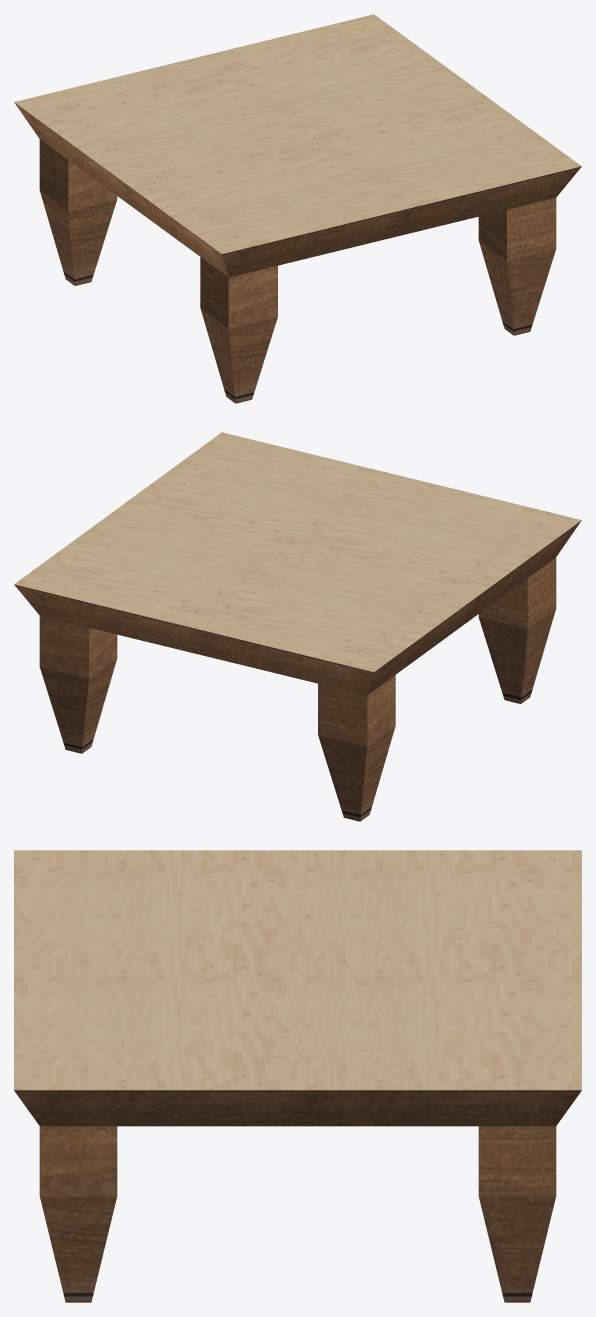
File: table.glb
3 views of the same model, one above another, from view 1: azimuth 30°, elevation 25°; view 2: azimuth 150°, elevation 25°; view 3: azimuth 270°, elevation 25° (orthographic). The views are drawn at different scales.
Parts seen in each view (by area): view 1: Cube; view 2: Cube; view 3: Cube.
Boxes of the visible parts, bbox=[...] form: Cube: bbox=[14, 14, 581, 403]; Cube: bbox=[14, 432, 581, 821]; Cube: bbox=[14, 850, 581, 1302].
Size of the model in its own units: 2.2 by 1 by 2.2.
Materials: 2 (2 with a texture image).
